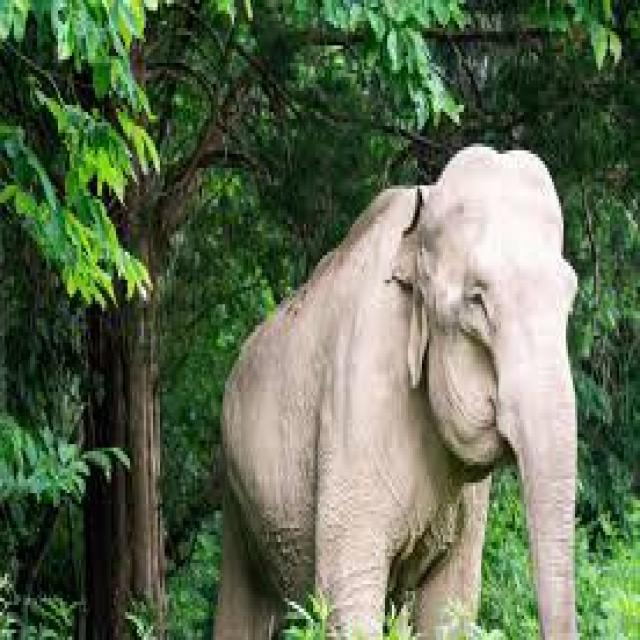Elephant: (208, 140, 580, 636)
